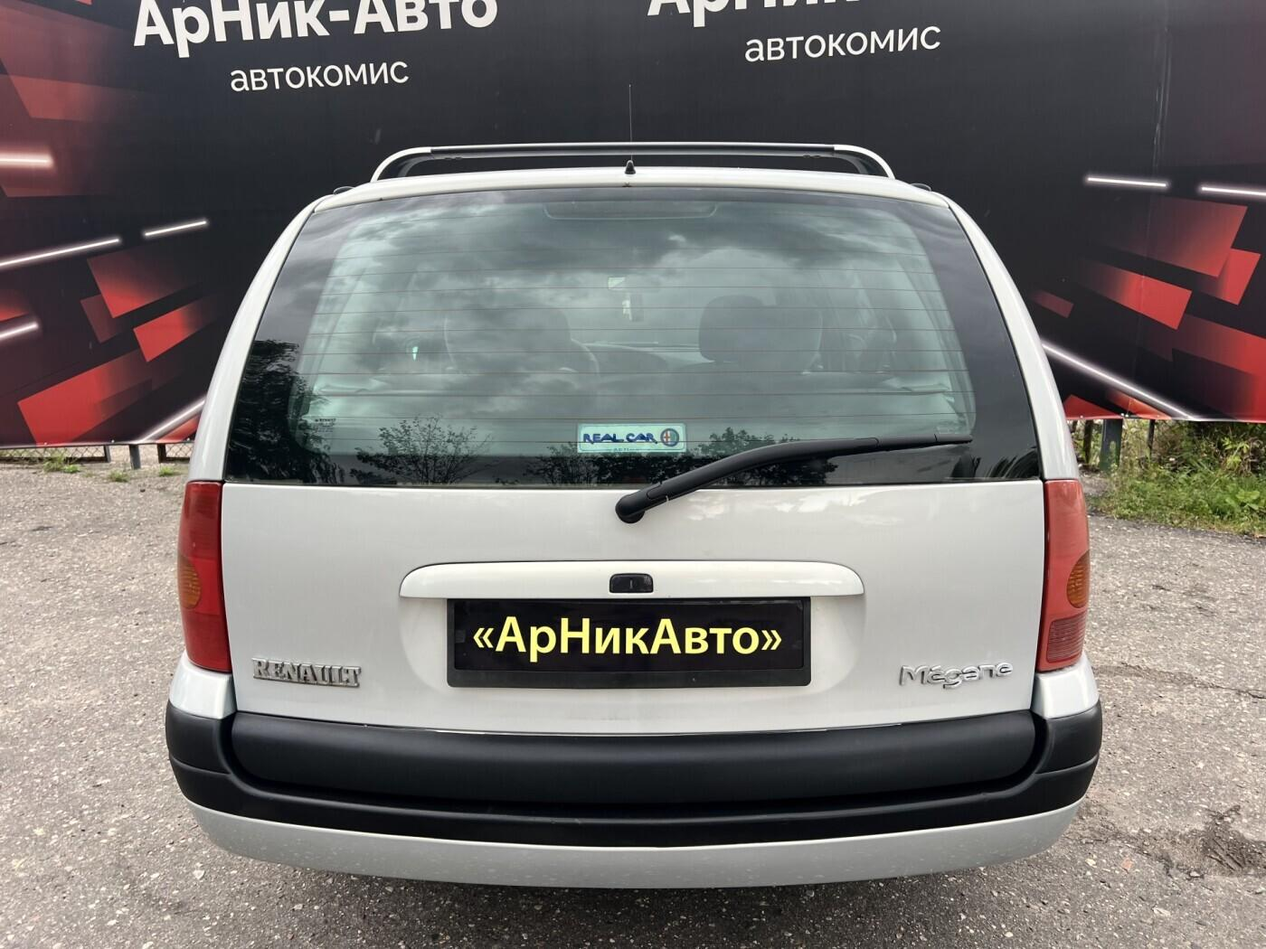Megane_1999-2003: (155, 147, 1114, 893)
